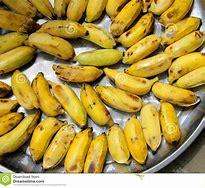banana: (0, 0, 205, 170), (102, 86, 154, 112), (136, 100, 163, 149), (25, 32, 77, 57), (0, 44, 45, 71), (70, 129, 94, 173), (59, 82, 83, 124), (160, 29, 202, 53), (124, 110, 144, 160), (160, 97, 182, 141), (78, 20, 116, 45), (102, 122, 126, 159), (40, 18, 83, 35), (68, 1, 108, 19), (121, 34, 157, 53), (54, 65, 96, 81), (88, 132, 106, 169), (113, 71, 160, 85), (128, 59, 173, 73), (73, 49, 116, 63), (1, 14, 33, 29), (11, 0, 43, 11)
